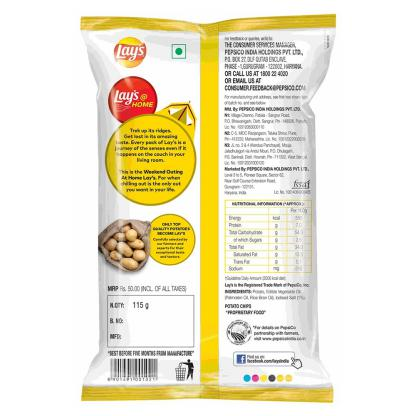plastic: (79, 13, 336, 403)
